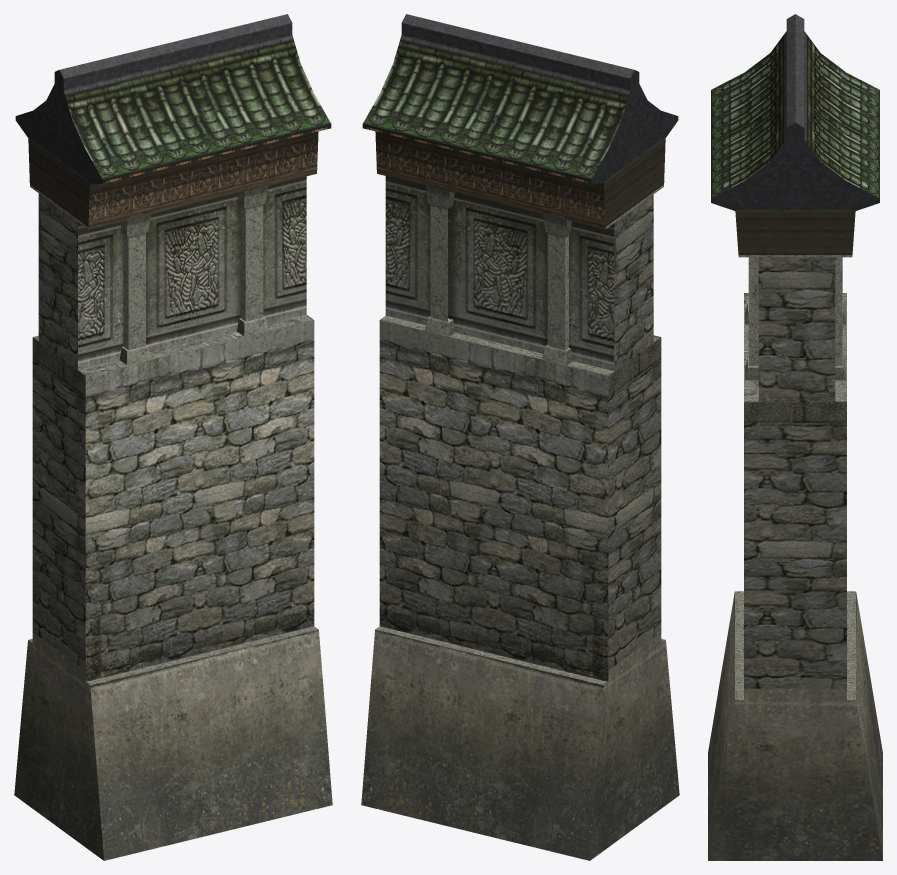
Rendered from c1-middledam-04.fbx.
3 renders of one model, left to right at view 1: azimuth 30°, elevation 25°; view 2: azimuth 150°, elevation 25°; view 3: azimuth 270°, elevation 25°, orthographic. The views are drawn at different scales.
Visible parts, largest first — view 1: b1-middledam-04; view 2: b1-middledam-04; view 3: b1-middledam-04.
Part boxes in pixels (x1,y1,x2,y2): b1-middledam-04: (14, 14, 332, 860); b1-middledam-04: (361, 14, 679, 860); b1-middledam-04: (708, 14, 882, 860).
Bounding box in the file's own units: 2.5 × 7.92 × 1.7.
